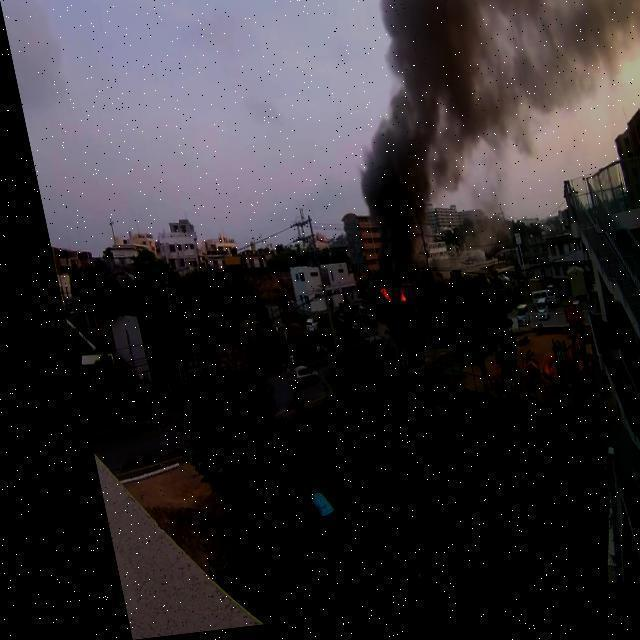Fire: (365, 296, 378, 312), (384, 298, 392, 312)
